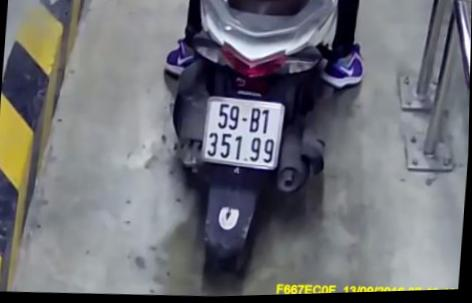LP: (200, 94, 287, 175)
